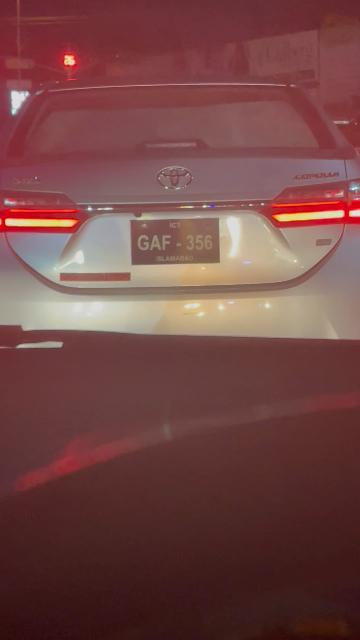plate: (130, 218, 222, 266)
